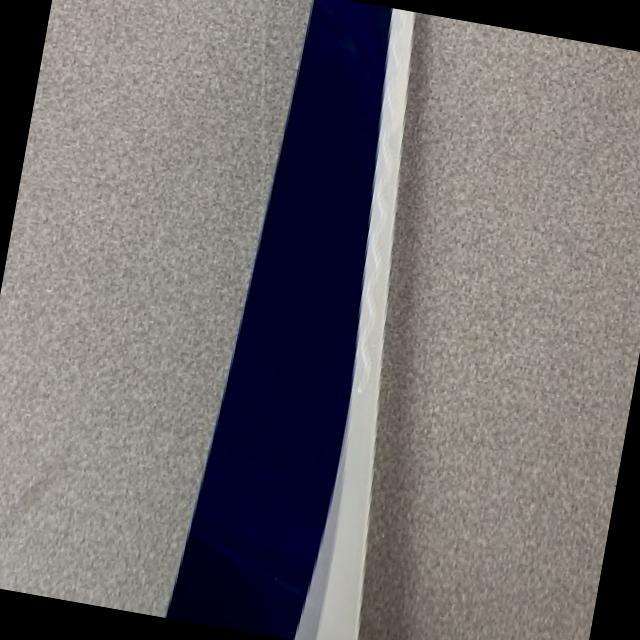healthy: (358, 12, 640, 640), (168, 0, 412, 640)
